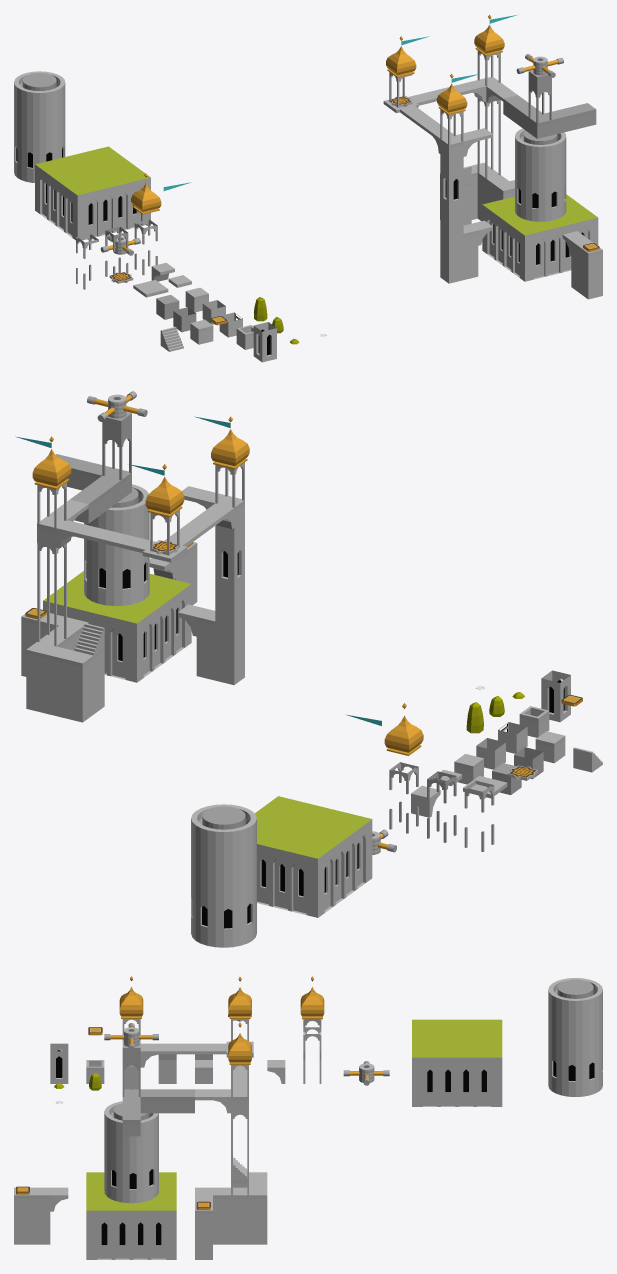
File: monument_valley_scene.fbx
3 renders of one model, top to bottom at view 1: azimuth 30°, elevation 25°; view 2: azimuth 150°, elevation 25°; view 3: azimuth 270°, elevation 25°, orthographic. The views are drawn at different scales.
Visible parts, largest first — view 1: main_platform, main_platform.001, tower, tower.001, 2_cubes_window, 2_cubes_window.001, roof.003, roof.002, roof.001, roof, lever.001, laddder_upside (+2 smaller); view 2: main_platform, tower, main_platform.001, tower.001, 2_cubes_window, 2_cubes_window.001, roof.002, roof.003, roof, roof.001, lever.001, light_grey_block_with_cap.012 (+4 smaller); view 3: main_platform, main_platform.001, tower, tower.001, 2_cubes_window, roof, roof.001, roof.002, roof.003, lever.001, lever, light_grey_block_with_cap.009 (+10 smaller).
Boxes of the visible parts, left/top/right/bottom form: main_platform: left=35, top=146, right=150, bottom=240; main_platform.001: left=482, top=194, right=598, bottom=281; tower: left=14, top=71, right=65, bottom=182; tower.001: left=515, top=128, right=566, bottom=221; 2_cubes_window: left=253, top=322, right=276, bottom=362; 2_cubes_window.001: left=440, top=170, right=463, bottom=206; roof.003: left=386, top=36, right=416, bottom=77; roof.002: left=474, top=14, right=504, bottom=56; roof.001: left=436, top=73, right=467, bottom=114; roof: left=131, top=173, right=161, bottom=214; lever.001: left=516, top=54, right=563, bottom=77; laddder_upside: left=190, top=319, right=213, bottom=344; main_platform: left=255, top=796, right=372, bottom=917; tower: left=191, top=804, right=256, bottom=947; main_platform.001: left=43, top=571, right=191, bottom=682; tower.001: left=84, top=484, right=149, bottom=605; 2_cubes_window: left=541, top=670, right=570, bottom=722; 2_cubes_window.001: left=215, top=539, right=244, bottom=586; roof.002: left=32, top=436, right=71, bottom=489; roof.003: left=145, top=464, right=184, bottom=517; roof: left=384, top=703, right=423, bottom=755; roof.001: left=211, top=416, right=249, bottom=469; lever.001: left=87, top=391, right=147, bottom=421; light_grey_block_with_cap.012: left=64, top=651, right=93, bottom=682; main_platform: left=412, top=1019, right=502, bottom=1106; main_platform.001: left=86, top=1172, right=176, bottom=1259; tower: left=548, top=978, right=602, bottom=1096; tower.001: left=104, top=1101, right=158, bottom=1203; 2_cubes_window: left=50, top=1043, right=68, bottom=1083; roof: left=300, top=976, right=324, bottom=1019; roof.001: left=119, top=976, right=143, bottom=1018; roof.002: left=228, top=1022, right=251, bottom=1064; roof.003: left=228, top=977, right=251, bottom=1018; lever.001: left=104, top=1023, right=158, bottom=1051; lever: left=343, top=1061, right=389, bottom=1085; light_grey_block_with_cap.009: left=32, top=1187, right=50, bottom=1211.
Bounding box in the file's own units: 2917 × 1334 × 3256.
